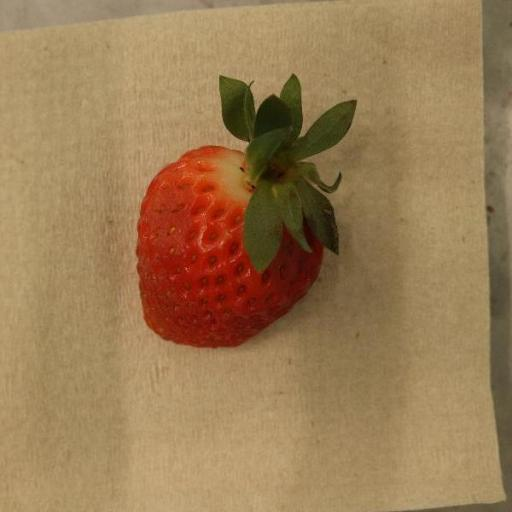Strawberry: (136, 75, 357, 349)
